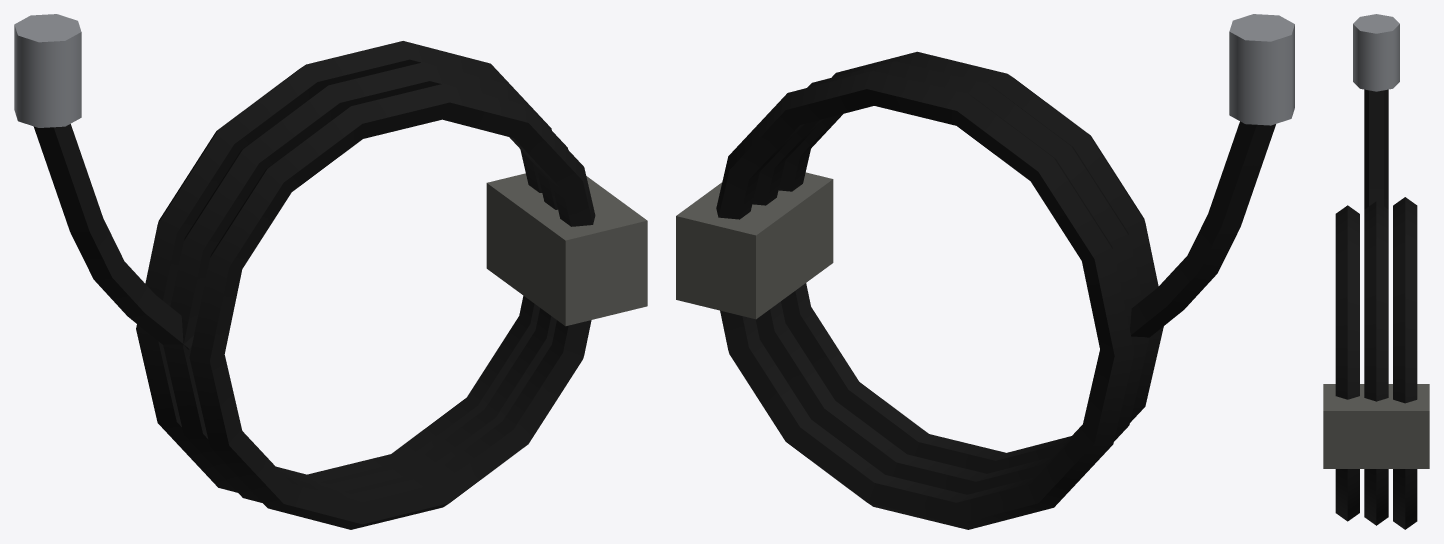
File: SM_Flot_Bobina.fbx
3 views of the same model, side by side, from view 1: azimuth 30°, elevation 25°; view 2: azimuth 150°, elevation 25°; view 3: azimuth 270°, elevation 25° (orthographic). The views are drawn at different scales.
Parts seen in each view (by area): view 1: SM_Flot_Bobina; view 2: SM_Flot_Bobina; view 3: SM_Flot_Bobina.
Boxes of the visible parts, x1=… form: SM_Flot_Bobina: x1=14, y1=14, x2=647, y2=529; SM_Flot_Bobina: x1=676, y1=14, x2=1294, y2=529; SM_Flot_Bobina: x1=1323, y1=14, x2=1429, y2=529.
Bounding box in the file's own units: 0.216 × 0.198 × 0.05.
